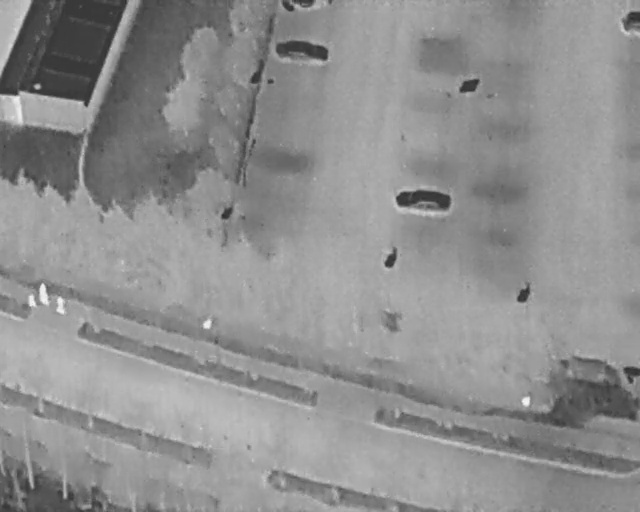Car: (547, 355, 638, 421), (395, 185, 452, 214), (274, 36, 330, 64), (283, 0, 330, 15), (620, 11, 640, 33)
Person: (38, 282, 50, 303), (56, 295, 66, 316), (28, 292, 36, 307)
